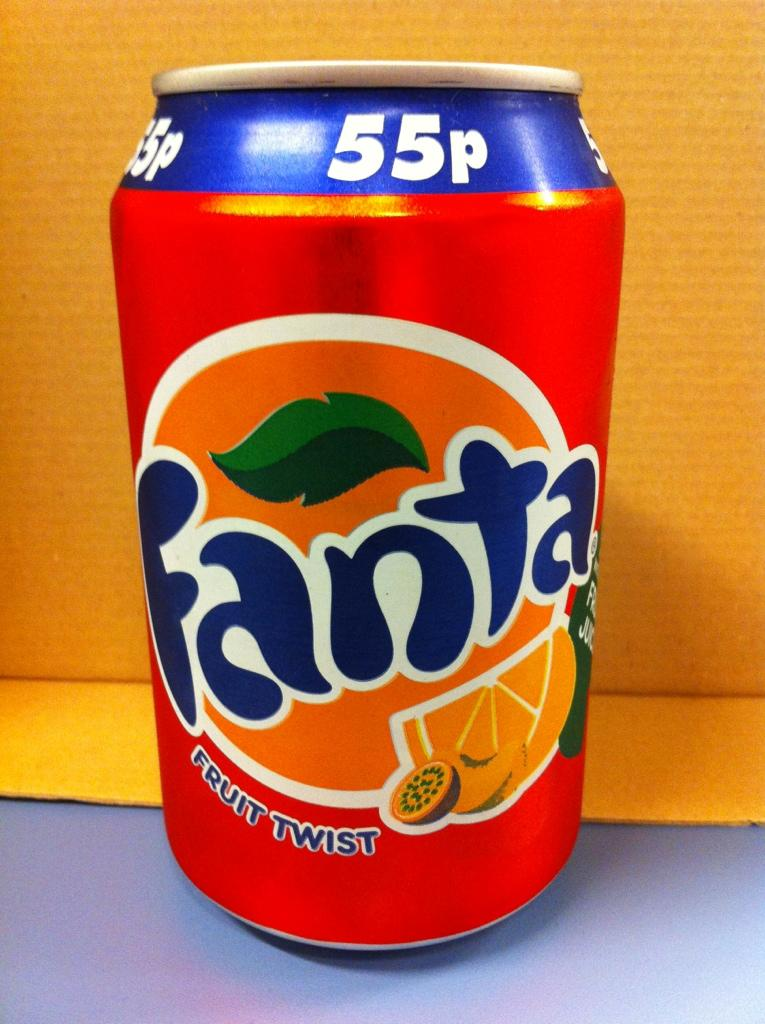metal: (110, 59, 624, 949)
